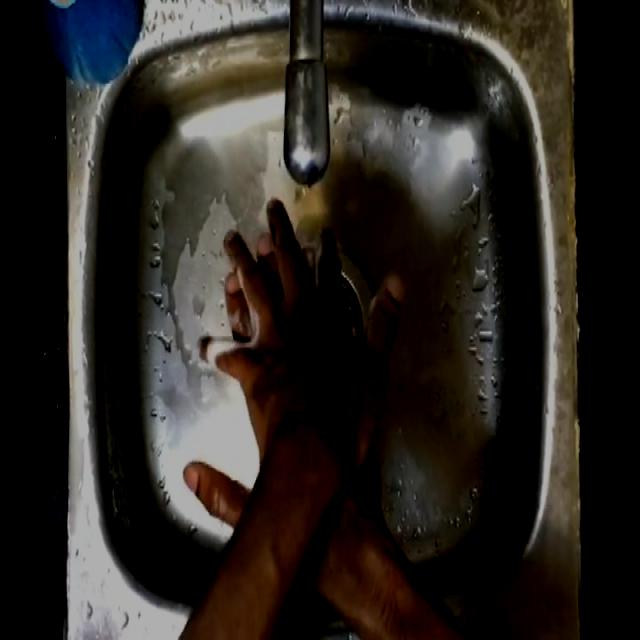step_2: (188, 170, 407, 475)
